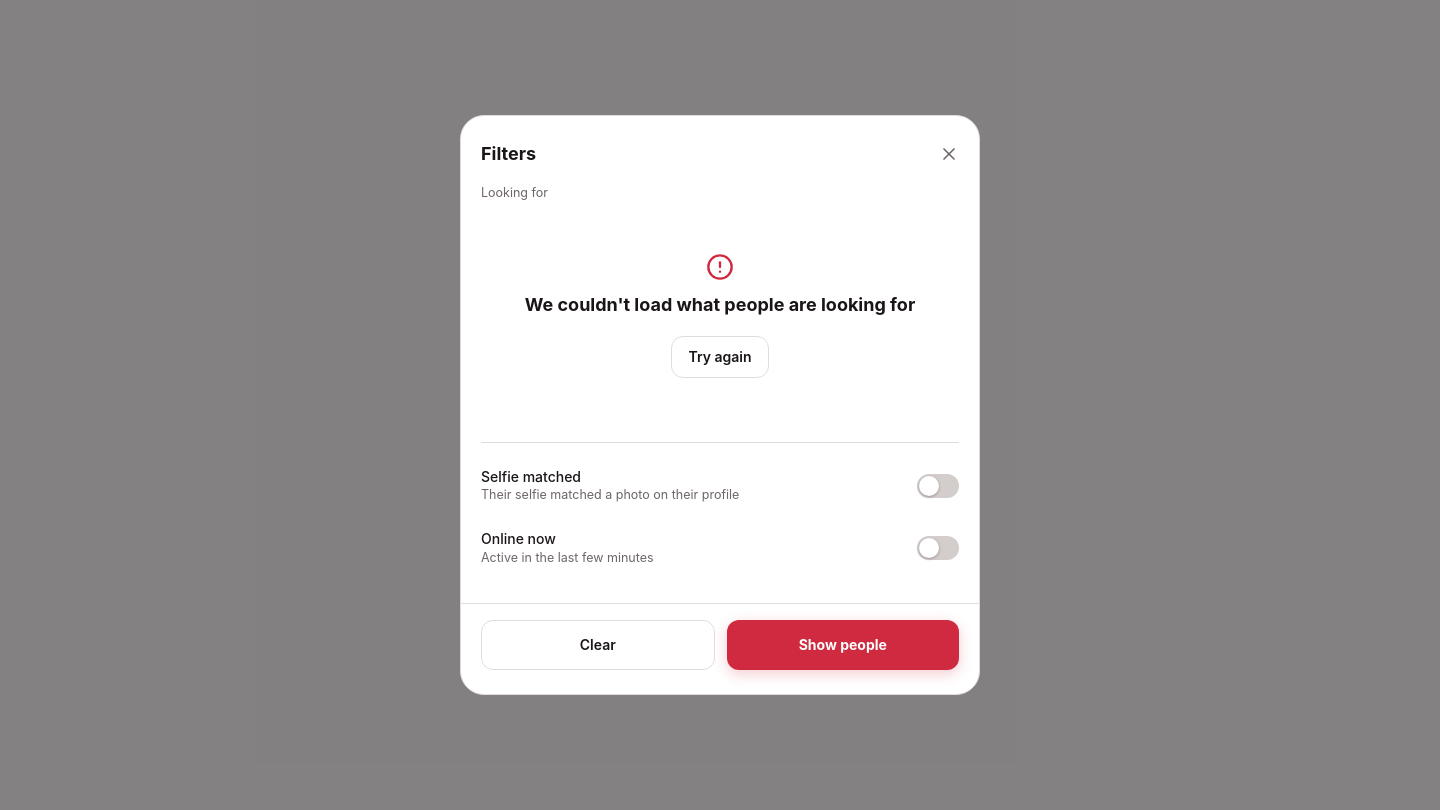
Test case: the filter sheet (T-6.9, 08-DESIGN §8) › says when the intents couldn't load, and tries again; the toggles still work
Click the switch labelled "Online now".
click(518, 539)  # box [481,517,959,579]
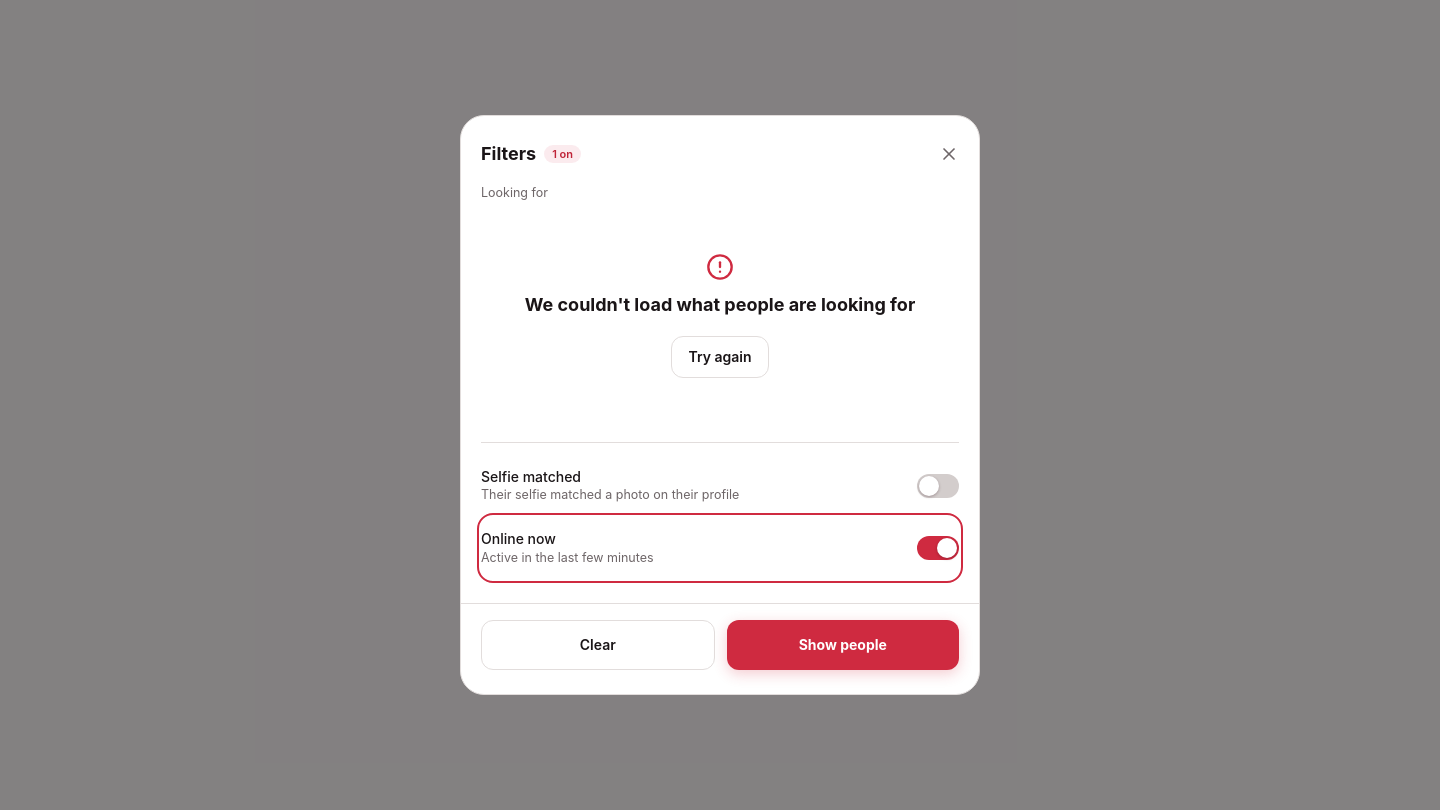
Check: the switch labelled "Online now" is checked, box [481,517,959,579]
Click the button "Try again".
click(720, 357)  # box [672,336,769,378]
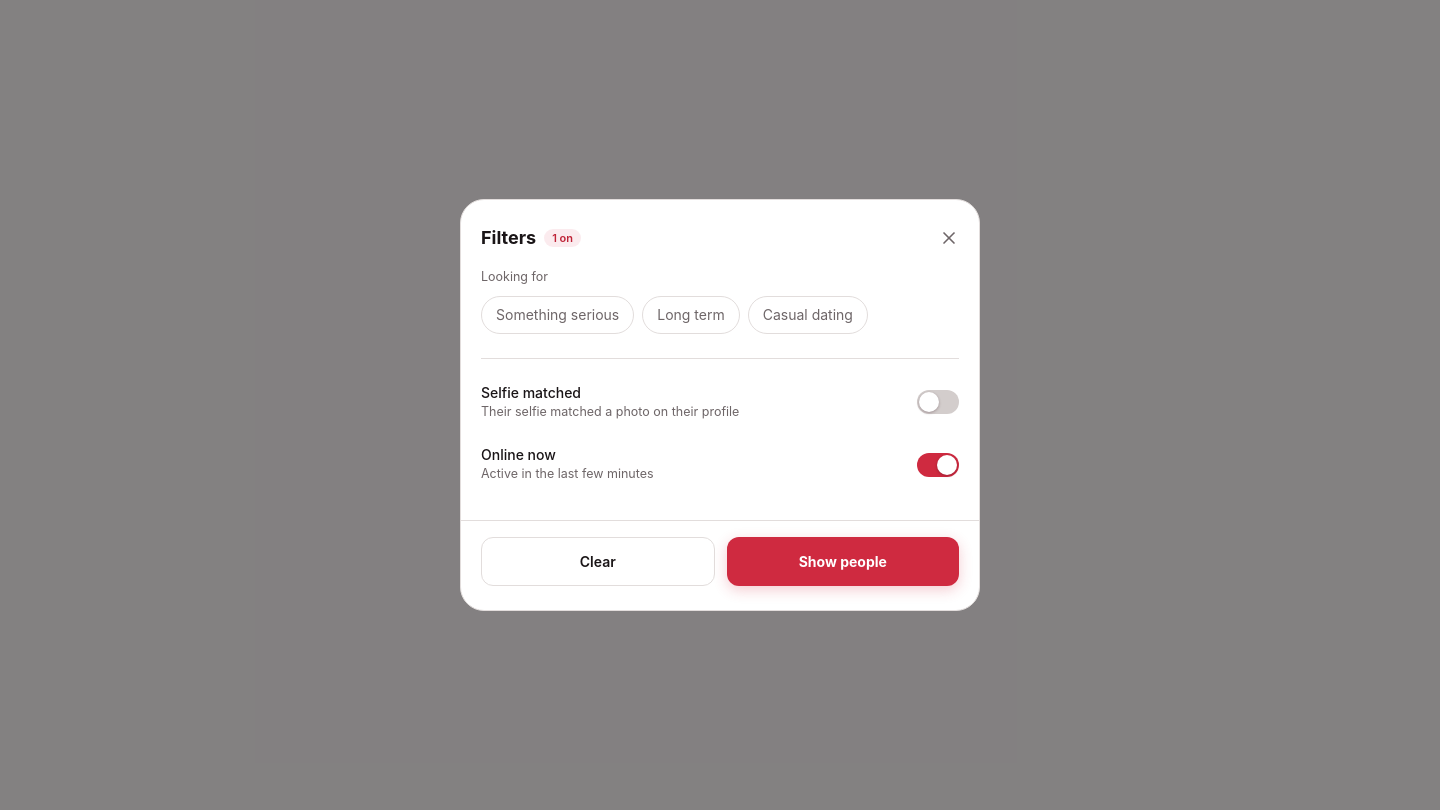
Check: the button "Long term" is shown, box [642,296,740,334]
